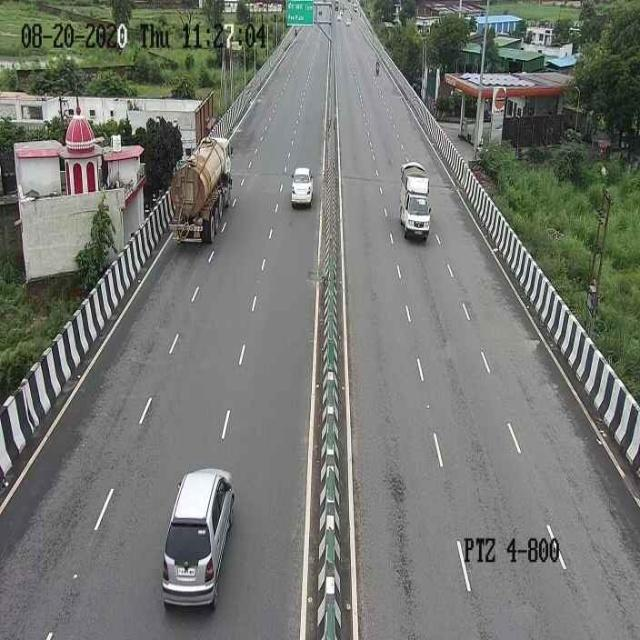car: (157, 461, 237, 612), (396, 157, 434, 243), (285, 161, 318, 212)
